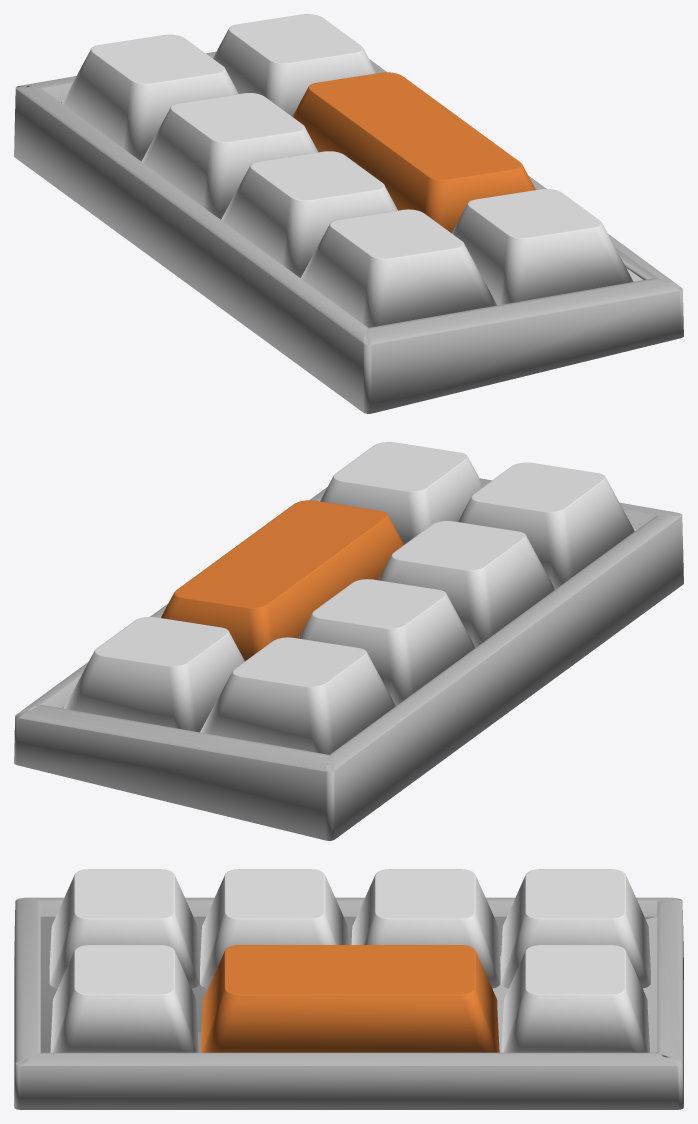
Rendered from small_keyboard.glb.
The picture shows the model from 3 angles, top to bottom: view 1: azimuth 30°, elevation 25°; view 2: azimuth 150°, elevation 25°; view 3: azimuth 270°, elevation 25°; orthographic projection. The views are drawn at different scales.
Visible parts, largest first — view 1: Keyboard_base, Cube.006, Cube, Cube.007, Cube.002, Cube.001, Cube.003, Cube.005; view 2: Keyboard_base, Cube.006, Cube.002, Cube.005, Cube, Cube.003, Cube.001, Cube.007; view 3: Keyboard_base, Cube.006, Cube.005, Cube.007, Cube, Cube.002, Cube.003, Cube.001.
Boxes of the visible parts, x1,y1,x2,y2 form: Keyboard_base: (14,51,683,413); Cube.006: (292,72,535,232); Cube: (301,209,497,327); Cube.007: (451,189,633,305); Cube.002: (62,34,238,161); Cube.001: (221,151,397,277); Cube.003: (141,93,317,219); Cube.005: (213,14,376,116); Keyboard_base: (14,478,683,840); Cube.006: (161,500,403,660); Cube.002: (200,637,395,754); Cube.005: (64,617,244,732); Cube: (458,462,634,589); Cube.003: (298,579,475,705); Cube.001: (378,521,554,647); Cube.007: (320,442,483,544); Keyboard_base: (14,897,683,1109); Cube.006: (200,945,499,1052); Cube.005: (501,945,649,1052); Cube.007: (50,945,198,1052); Cube: (49,869,199,988); Cube.002: (500,869,650,988); Cube.003: (351,869,500,988); Cube.001: (200,869,348,988).
Bounding box in the file's own units: 4.64 × 1.66 × 8.91.
